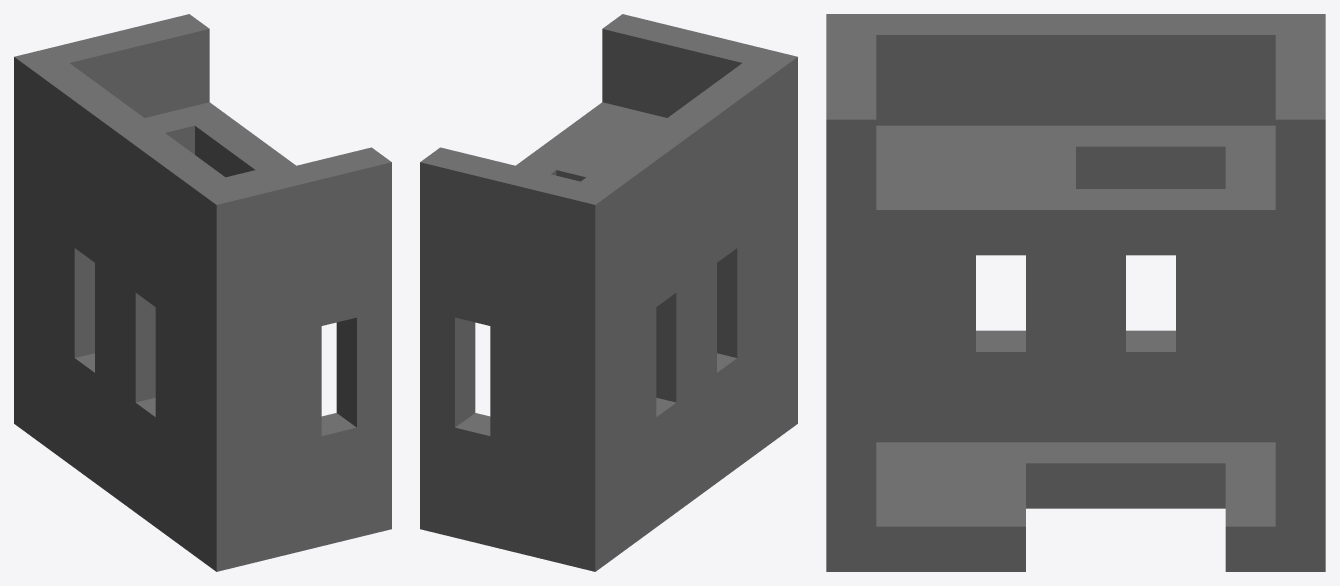
The model's file is building_tower_right_groundlevel.obj.
3 renders of one model, left to right at view 1: azimuth 30°, elevation 25°; view 2: azimuth 150°, elevation 25°; view 3: azimuth 270°, elevation 25°, orthographic. The views are drawn at different scales.
Size of the model in its own units: 5 by 10 by 10.
1 material, 1 textured.
